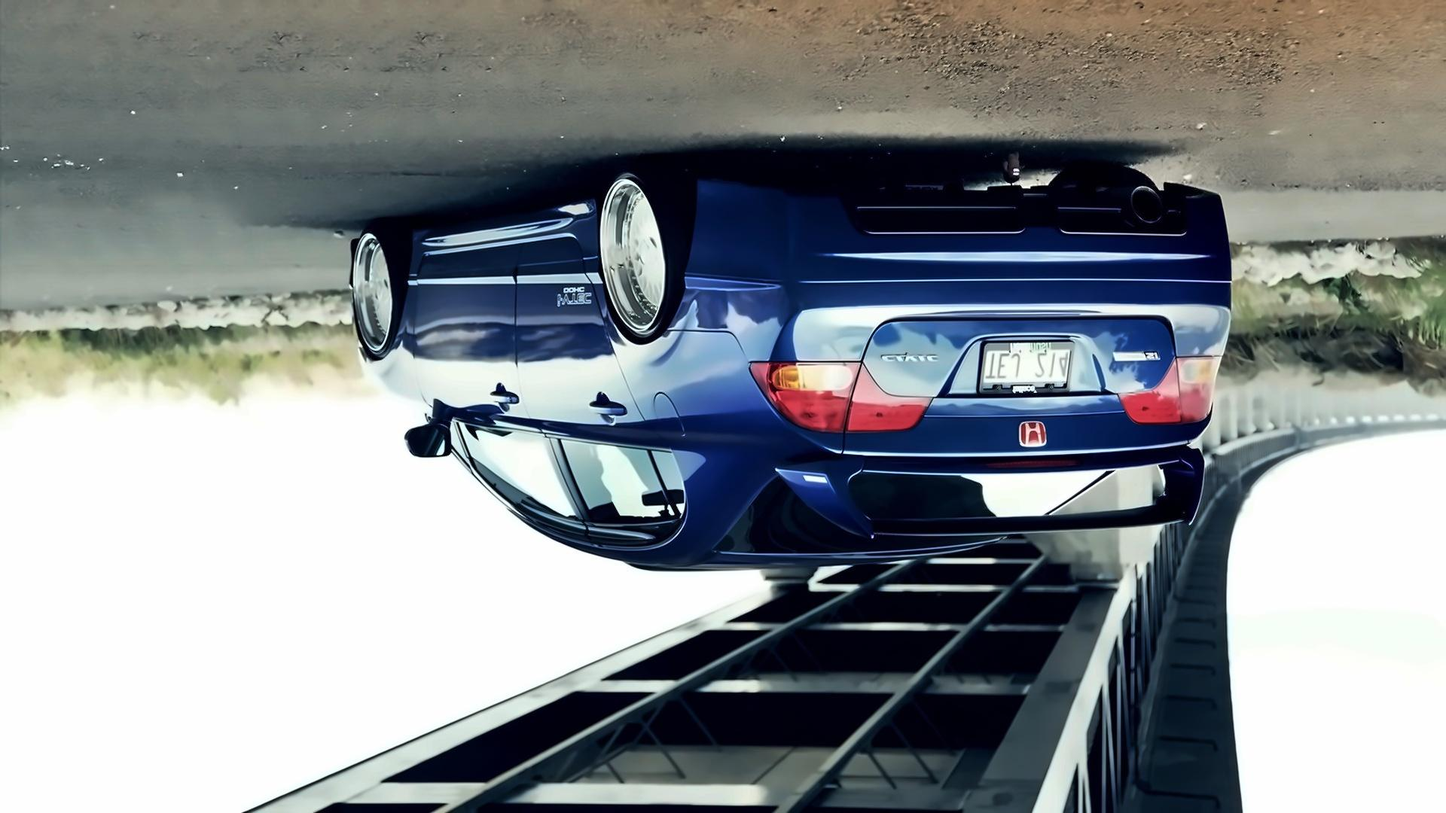Car boot: (760, 301, 1232, 465)
Driver-s door - -F-R-: (399, 182, 592, 568)
Fender - -F-R-: (348, 225, 457, 413)
Fender - -R-R-: (562, 212, 750, 467)
Passenger-s door - -R-R-: (506, 192, 694, 554)
Rear bumper: (677, 170, 1240, 300)
Rear light - -L-: (1121, 355, 1226, 424)
Rear light - -R-: (749, 358, 930, 438)
Side bumper - -R-: (404, 182, 598, 308)
Side mirror - -R-: (403, 389, 460, 456)
